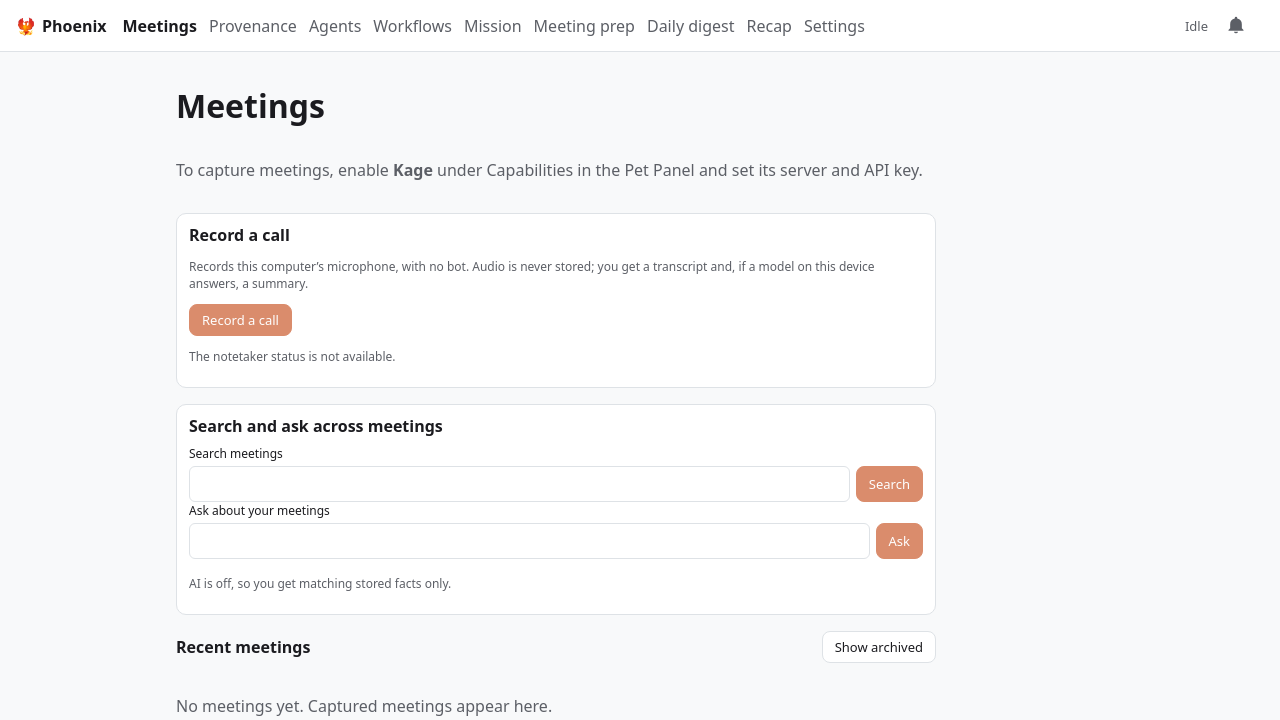
Test: Search across meetings › shows an error from Core
The image size is (1280, 720).
In the field labelled "Search meetings": (519, 484) top-left (189, 466), bottom-right (850, 502), type "x"
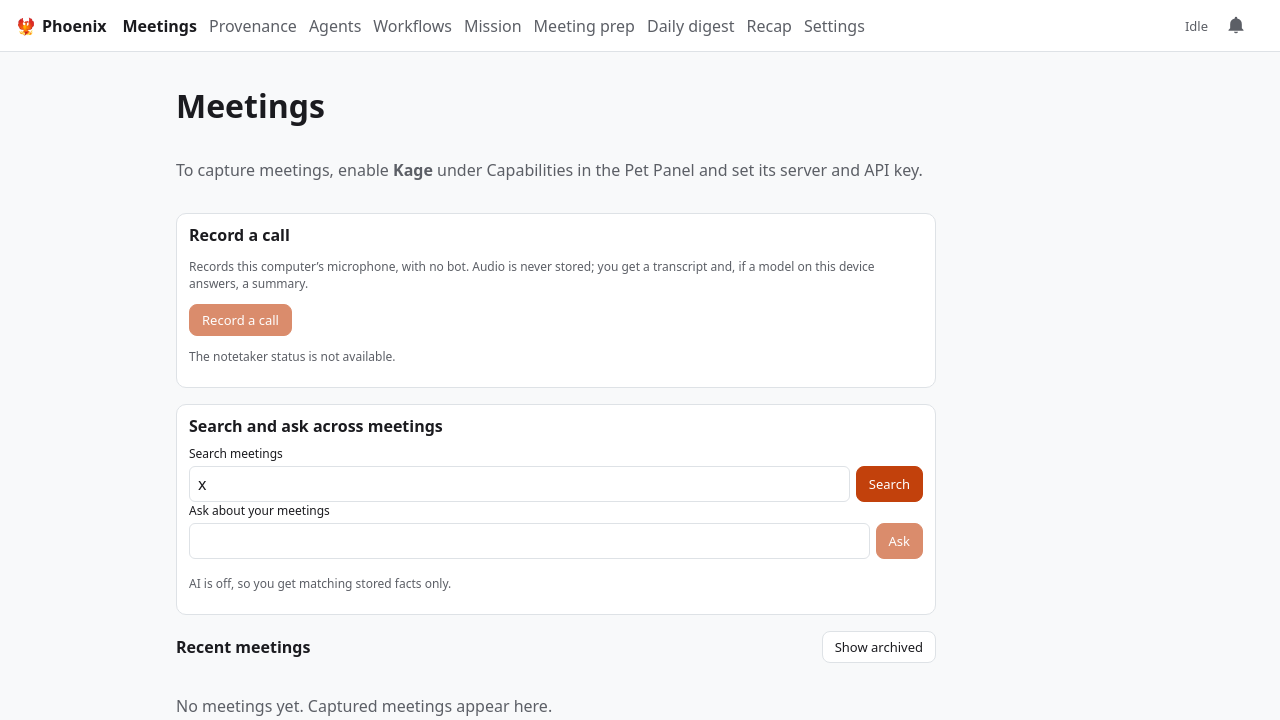
Click the button "Search": (889, 484) top-left (856, 466), bottom-right (923, 502)
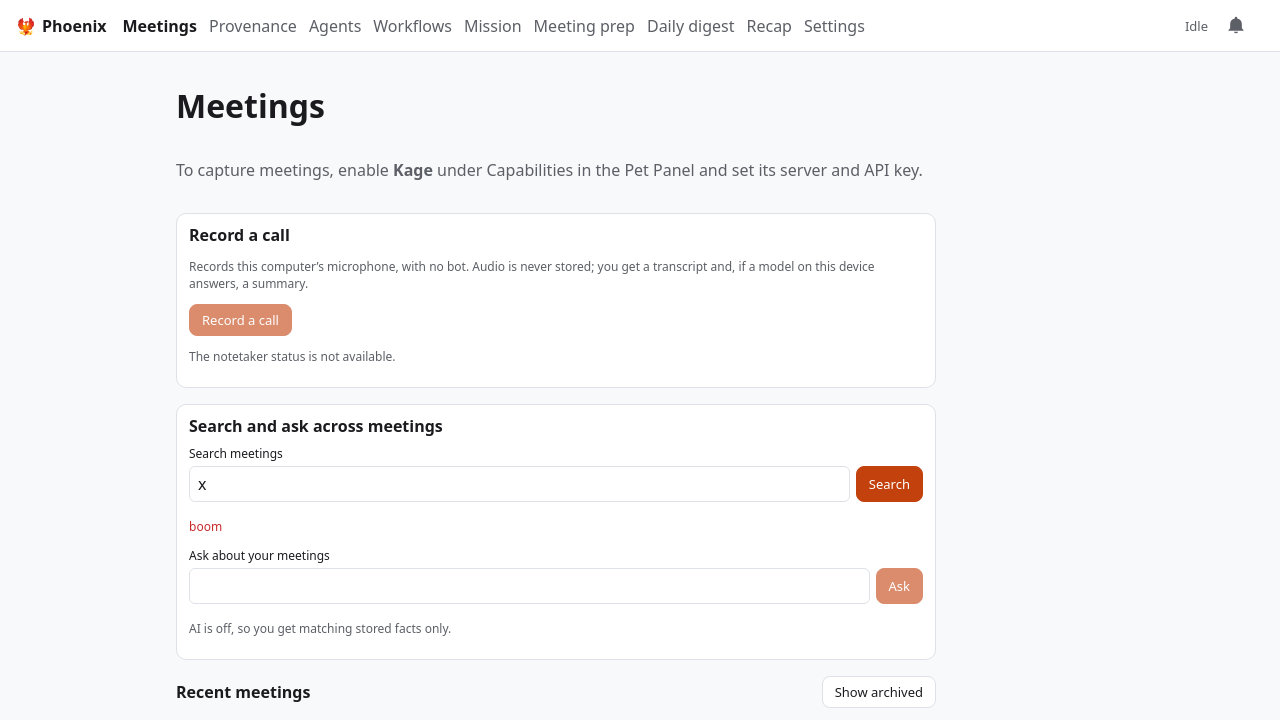
Expected: the message reads "boom", top-left (189, 518), bottom-right (222, 535)
